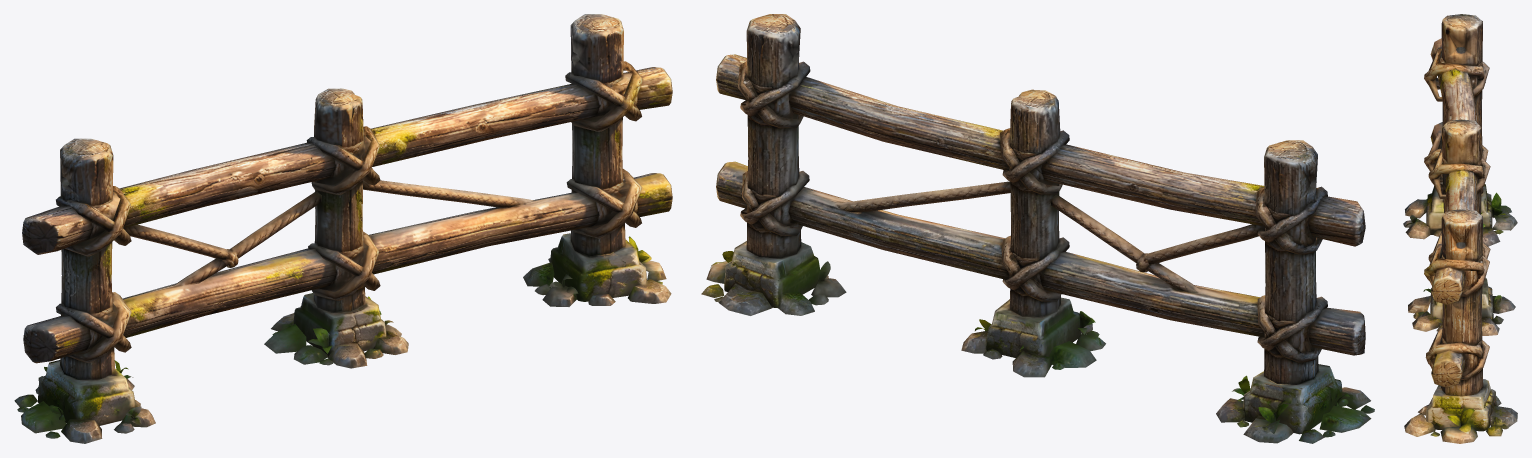
File: wooden+fence+3d+model.fbx
The picture shows the model from 3 angles, left to right: view 1: azimuth 30°, elevation 25°; view 2: azimuth 150°, elevation 25°; view 3: azimuth 270°, elevation 25°; orthographic projection. The views are drawn at different scales.
Visible parts, largest first — view 1: tripo_391843af_ed41_4e7f_9f54_7da0fbd06ec0; view 2: tripo_391843af_ed41_4e7f_9f54_7da0fbd06ec0; view 3: tripo_391843af_ed41_4e7f_9f54_7da0fbd06ec0.
Boxes of the visible parts, x1,y1,x2,y2 form: tripo_391843af_ed41_4e7f_9f54_7da0fbd06ec0: (14,14,672,443); tripo_391843af_ed41_4e7f_9f54_7da0fbd06ec0: (701,14,1374,443); tripo_391843af_ed41_4e7f_9f54_7da0fbd06ec0: (1403,14,1517,443).
Bounding box in the file's own units: 0.9995 × 0.3911 × 0.1978.
